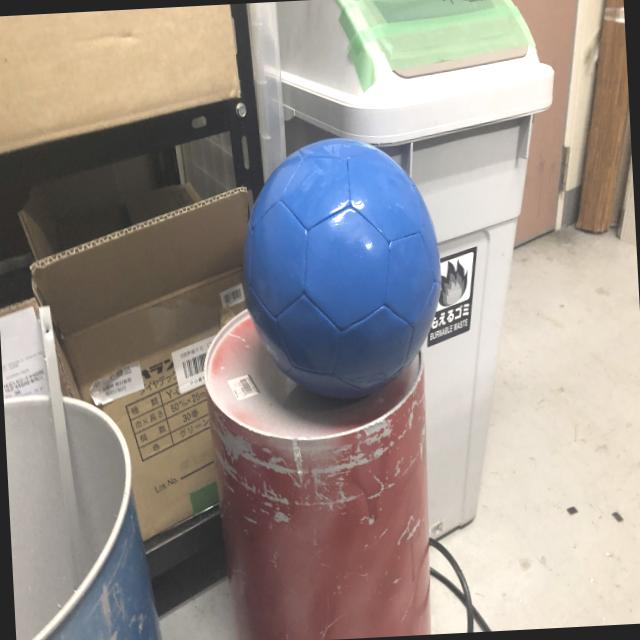blue_ball: (240, 134, 447, 395)
